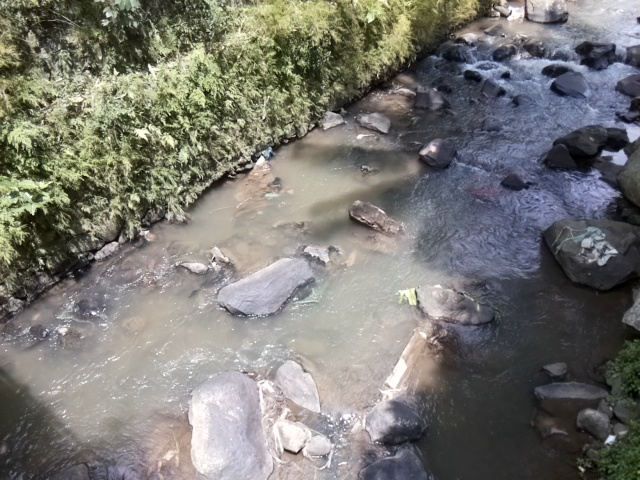Sampah_Plastik: (555, 227, 619, 266), (261, 148, 276, 159)
